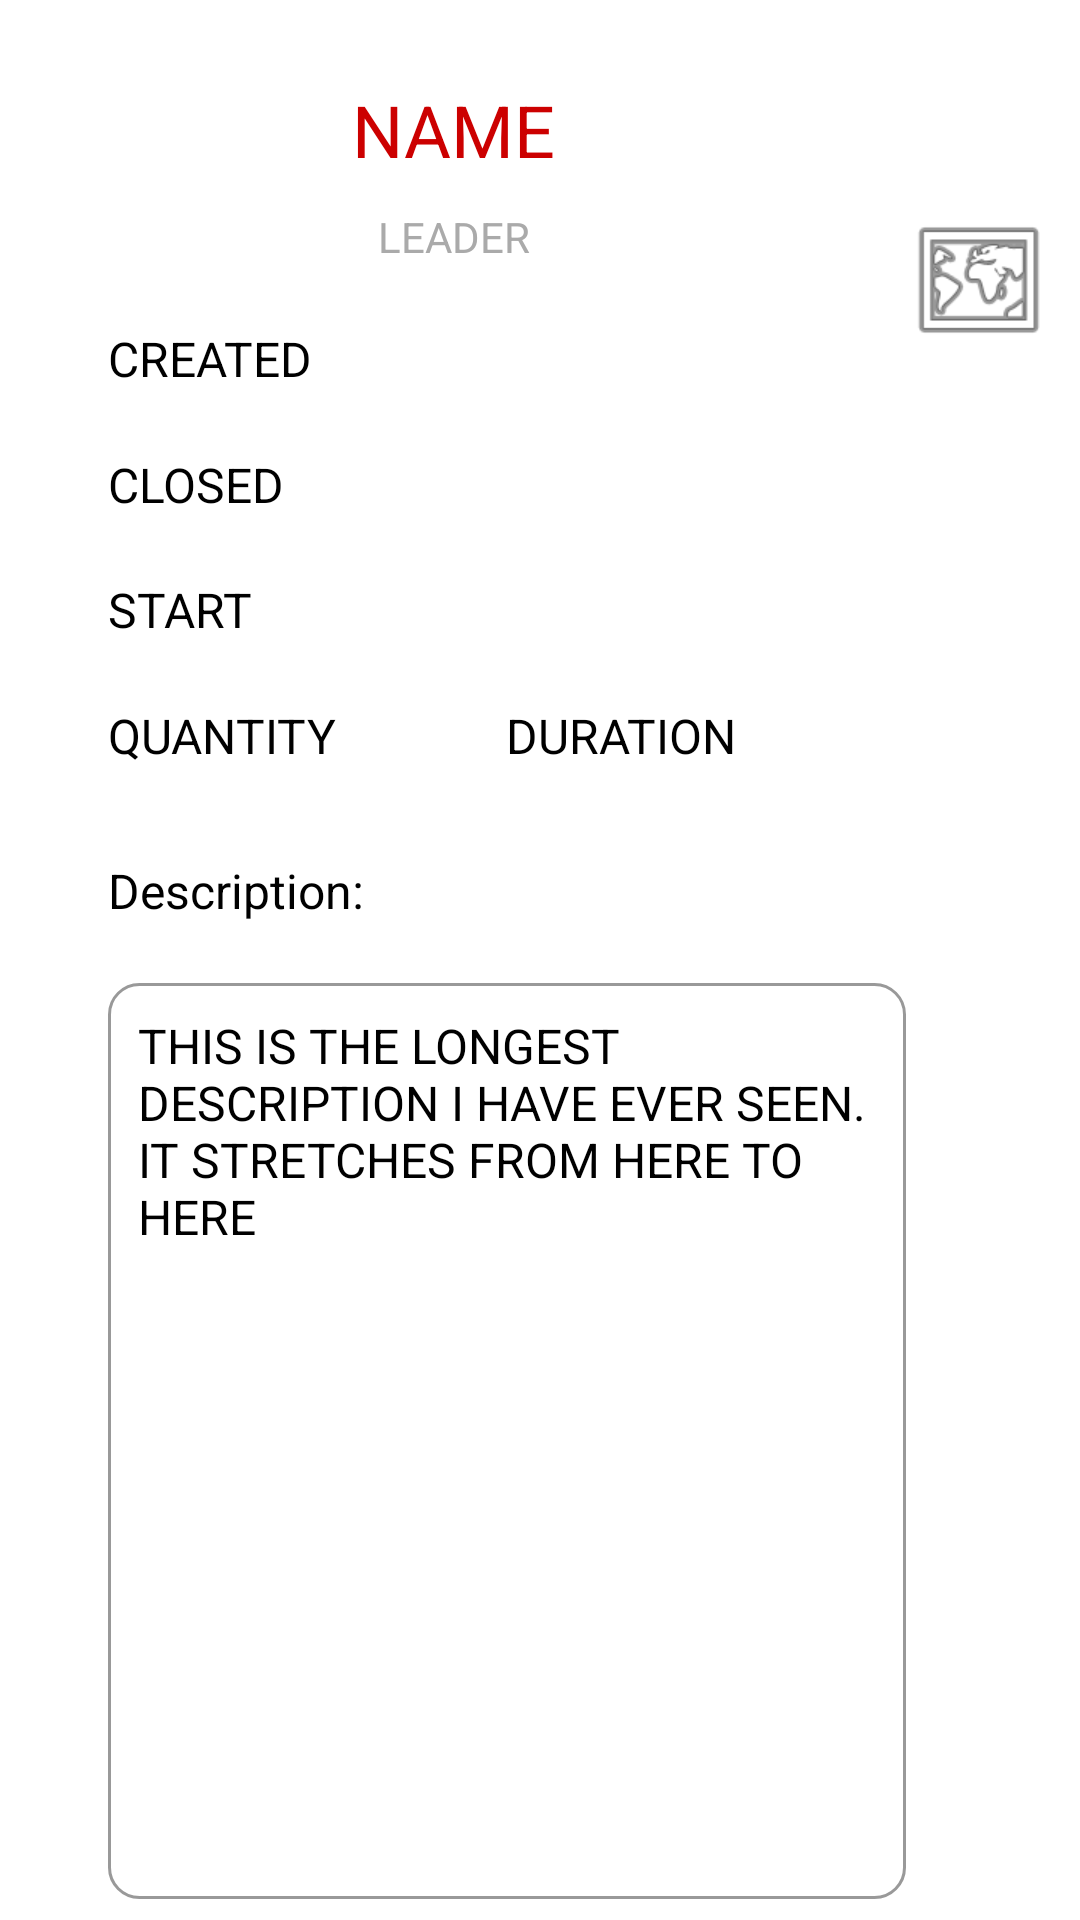

Named icons in this screenshot (1080w x 1920h) and their bounding boxes, (x1, y1, x2, y2):
View map: (919, 227, 1039, 333)
